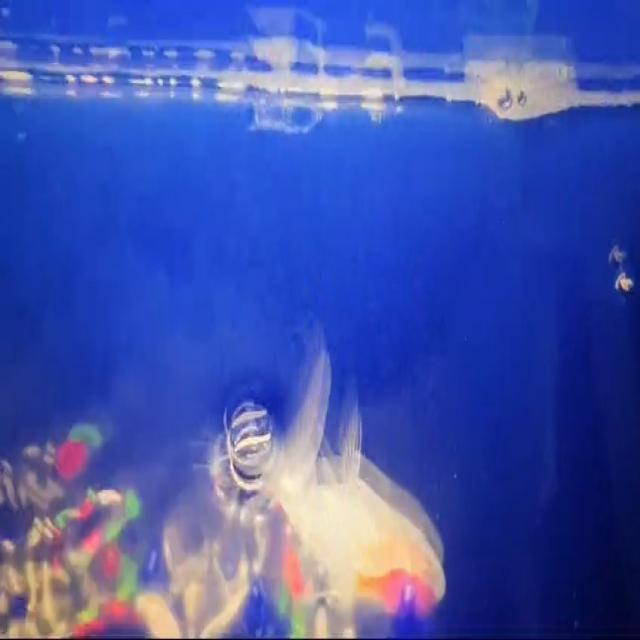fish: (254, 345, 452, 640)
